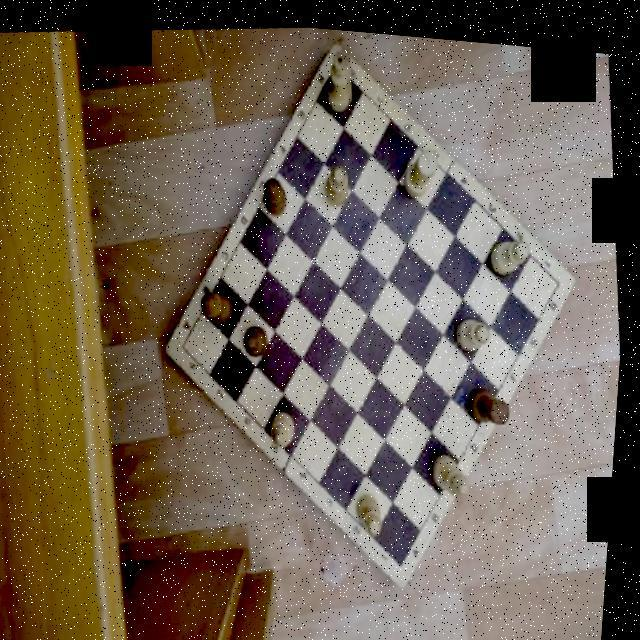chess-table-corners: (316, 37, 358, 81), (542, 249, 576, 296), (388, 534, 426, 576), (172, 321, 204, 366)
